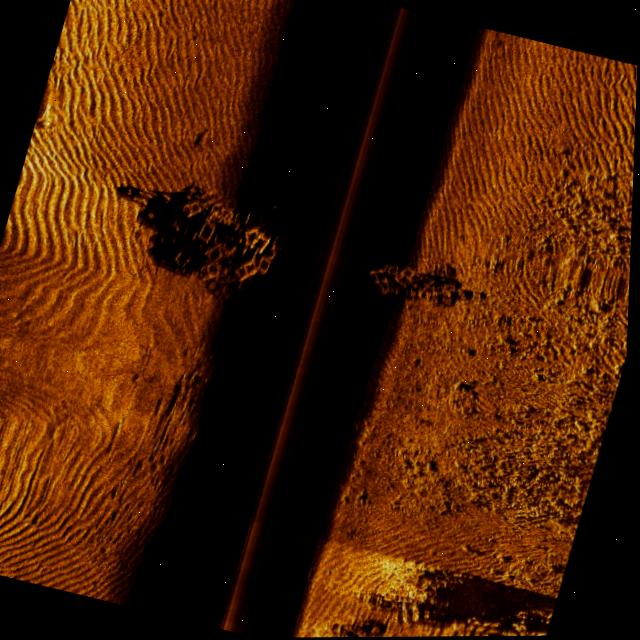artificial reef: (156, 175, 297, 304), (361, 245, 460, 320)
